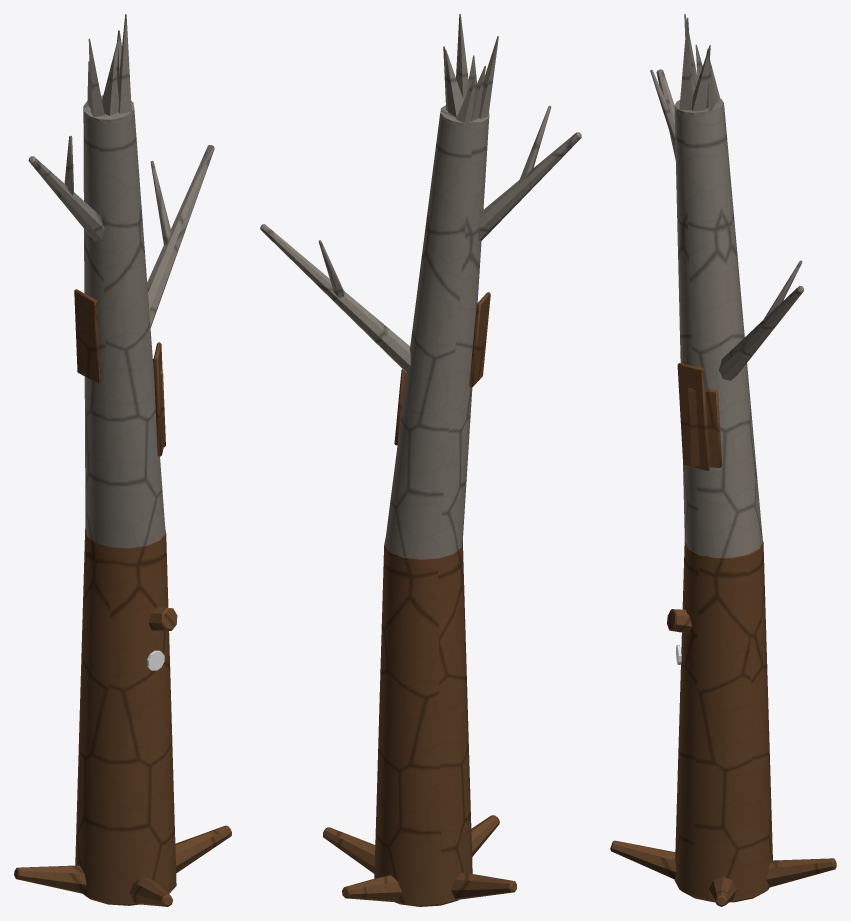
File: dead_snag.glb
The picture shows the model from 3 angles, left to right: view 1: azimuth 30°, elevation 25°; view 2: azimuth 150°, elevation 25°; view 3: azimuth 270°, elevation 25°; orthographic projection. The views are drawn at different scales.
Visible parts, largest first — view 1: dead_snag; view 2: dead_snag; view 3: dead_snag.
Boxes of the visible parts, <box> form: dead_snag: <box>14,14,231,906</box>; dead_snag: <box>260,14,581,906</box>; dead_snag: <box>610,14,836,906</box>.
Size of the model in its own units: 1.96 by 6.57 by 1.55.
Materials: 4 (4 with a texture image).
